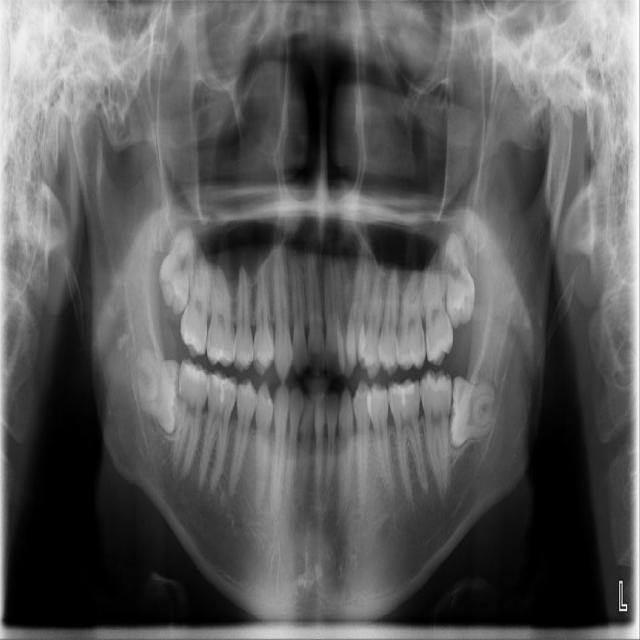impacted tooth: (130, 348, 181, 430), (449, 376, 503, 449), (445, 230, 474, 322), (162, 228, 194, 311)
